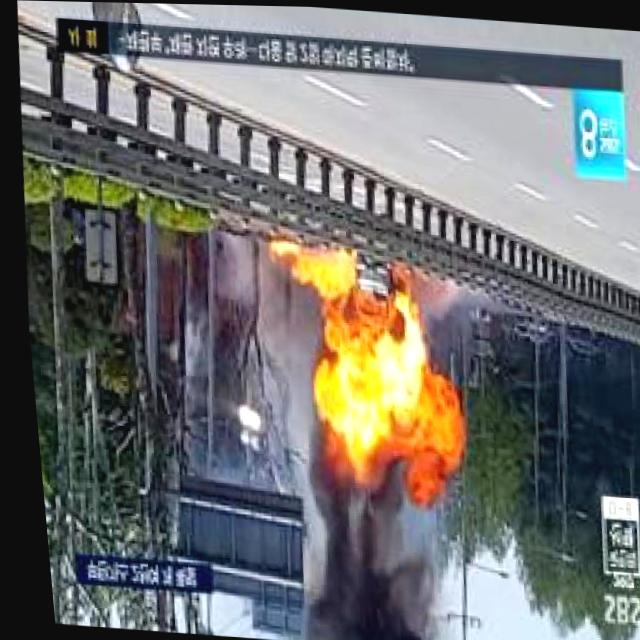helmet: (297, 296, 474, 515), (254, 230, 365, 310)
no_helmet: (285, 497, 445, 640)
